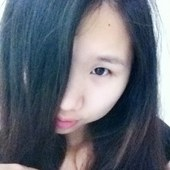face: (20, 16, 126, 134)
